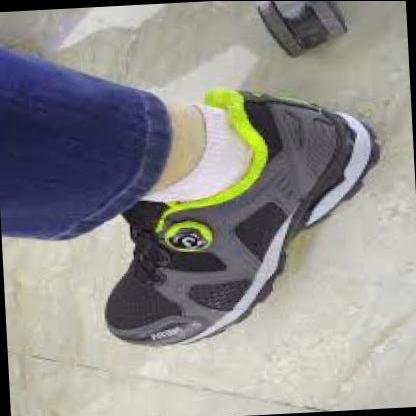safety-shoe: (73, 67, 389, 354)
